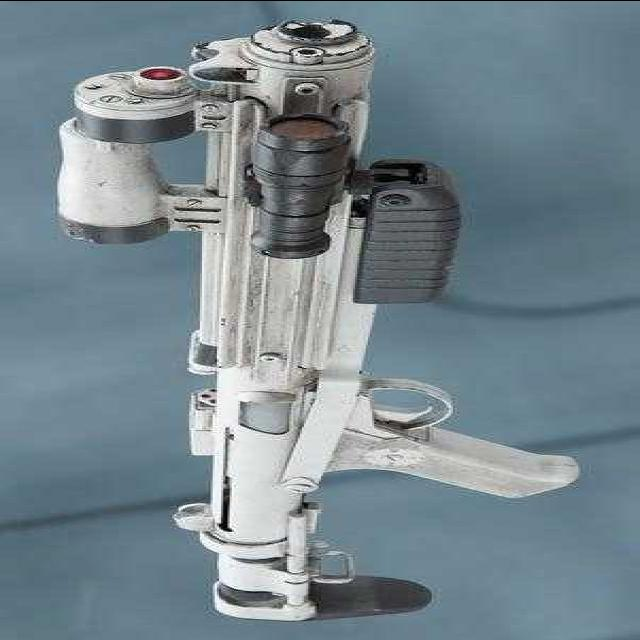heavyweapon: (48, 11, 569, 625)
